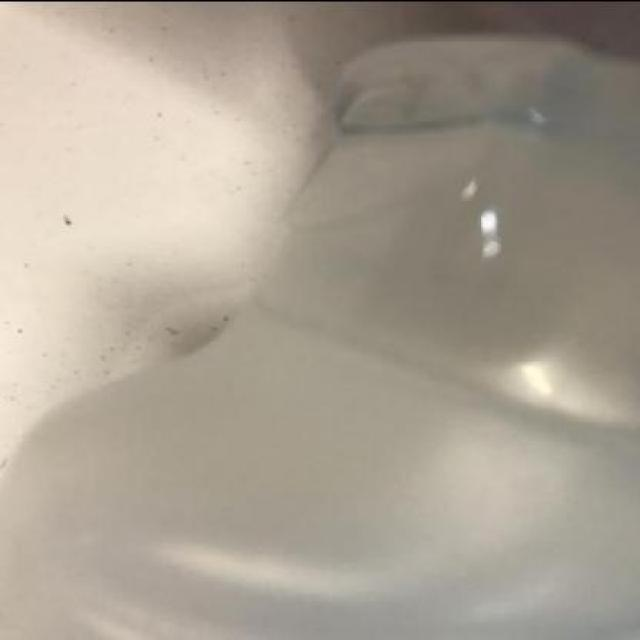PLASTIC: (0, 34, 640, 638)
